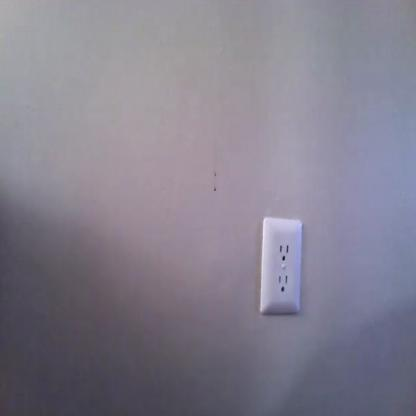OUTLET: (260, 218, 301, 314)
